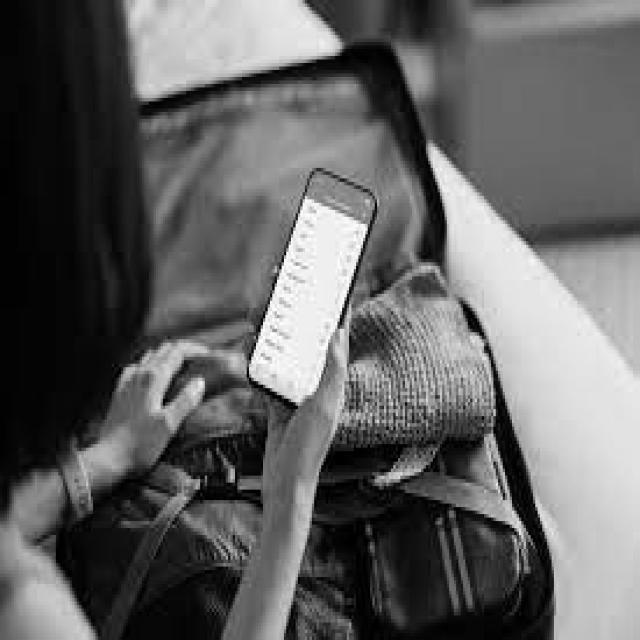No gun_phone: (249, 170, 378, 412)
